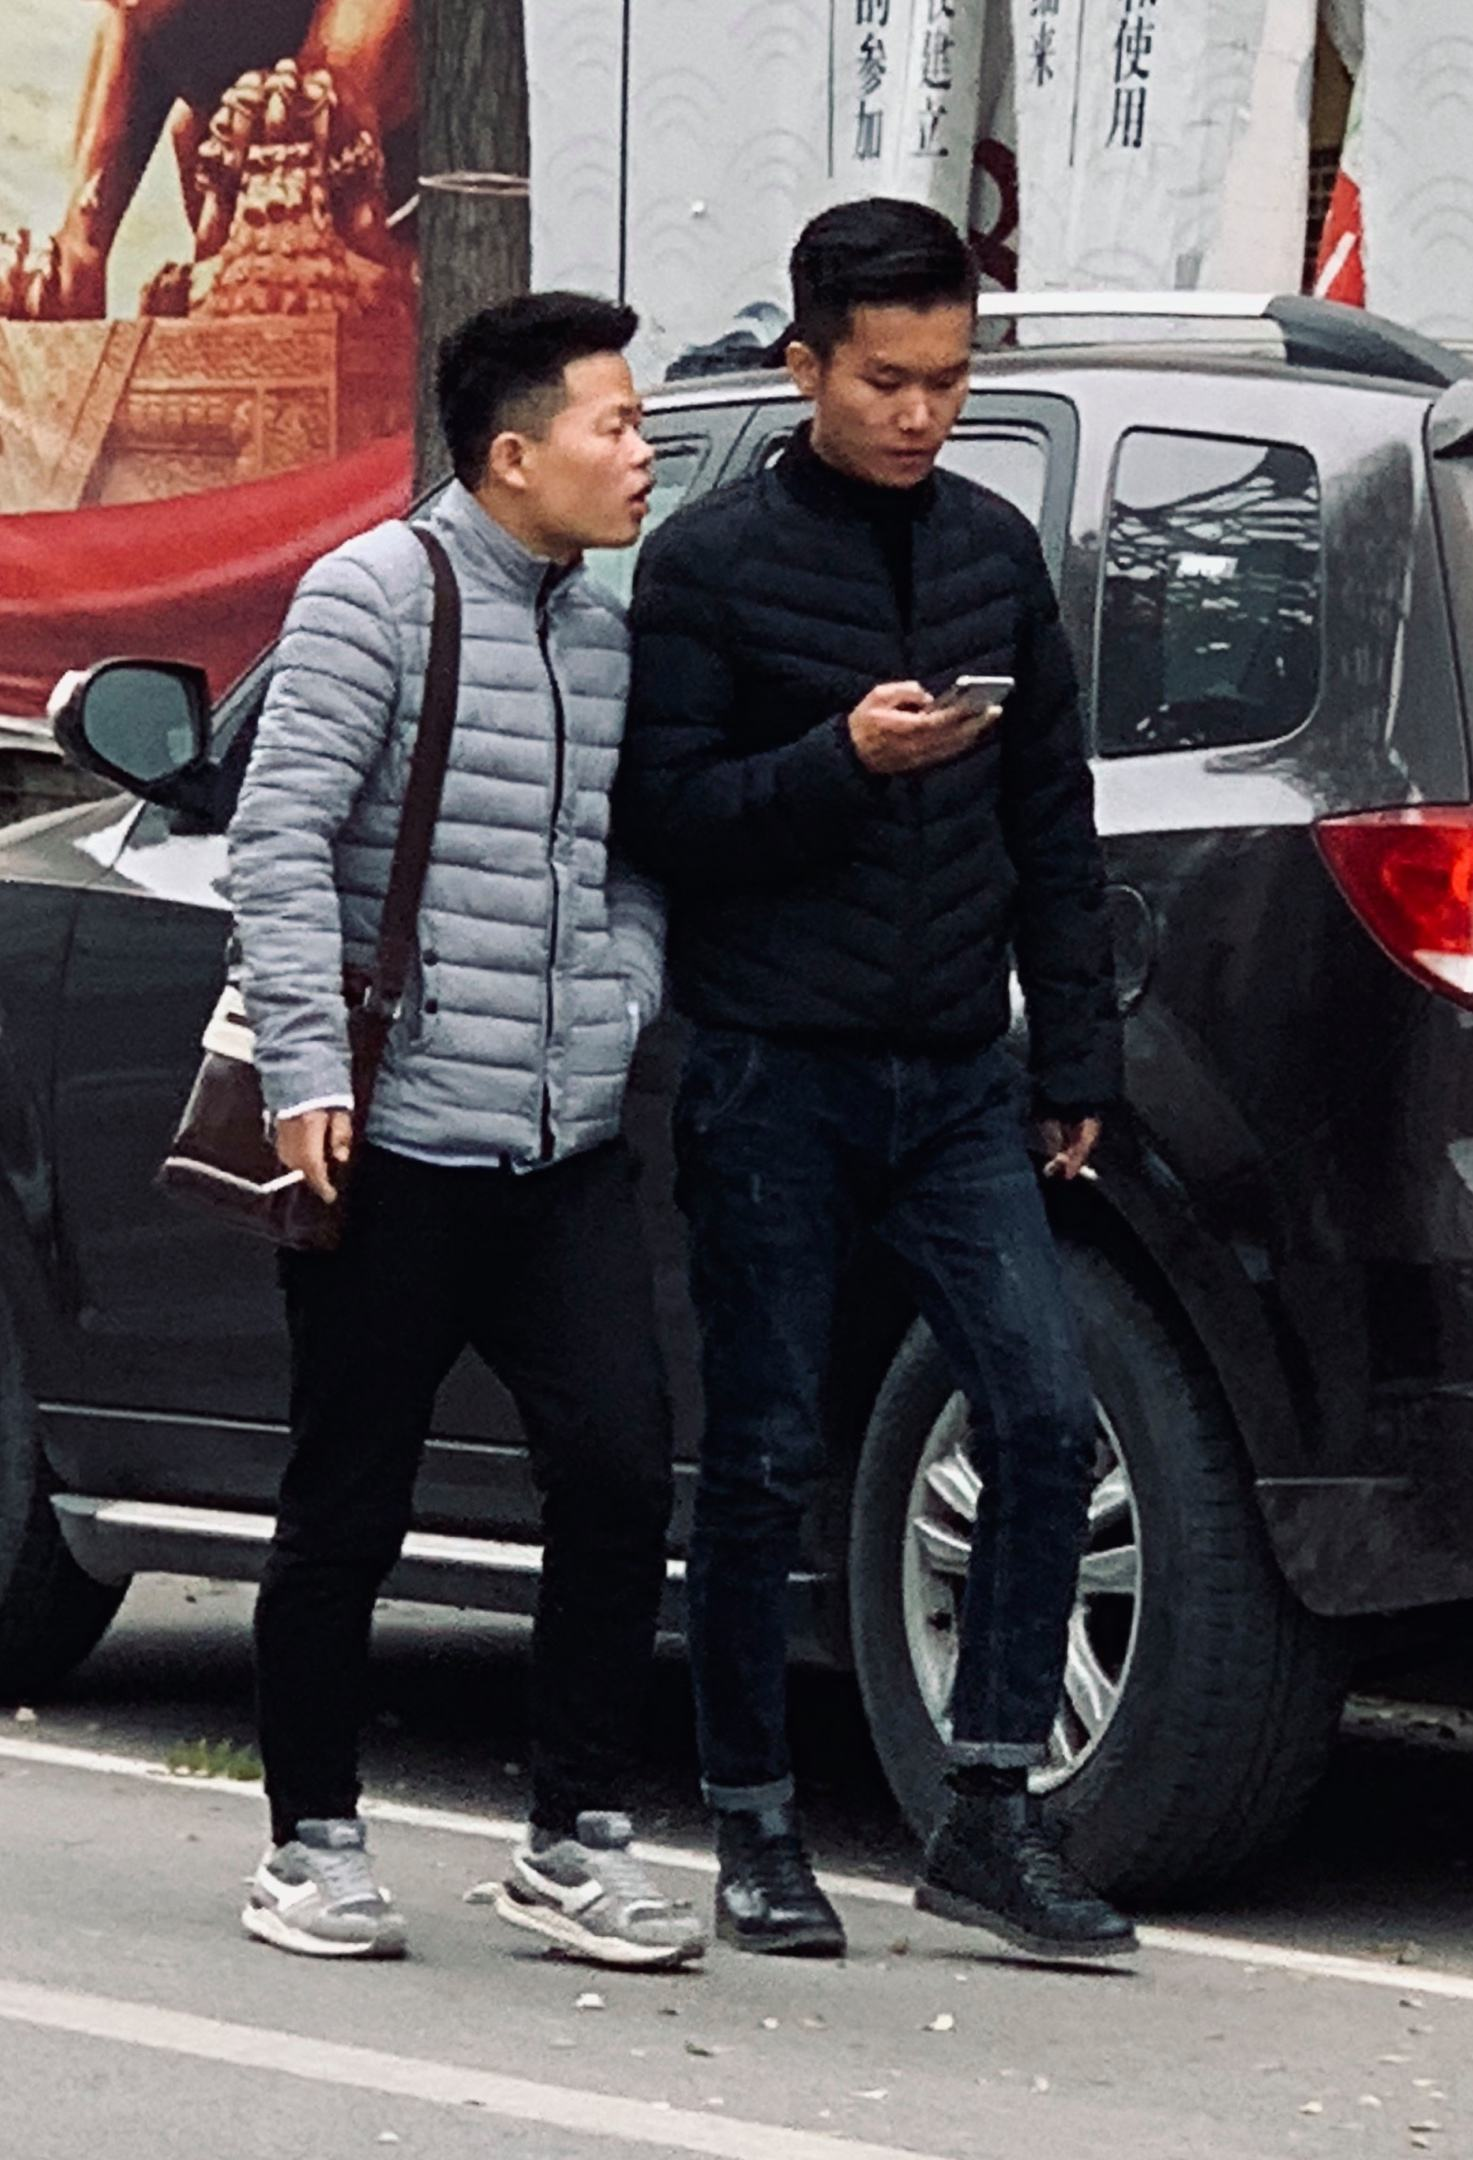reading: (849, 657, 1021, 776)
